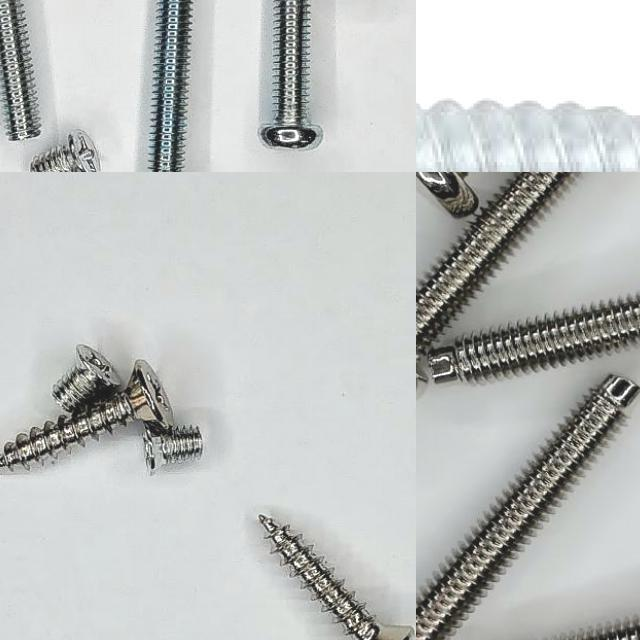Screw: (416, 375, 639, 640), (416, 172, 575, 380), (259, 515, 415, 640), (0, 360, 174, 469), (428, 294, 640, 383), (416, 98, 640, 172), (261, 0, 323, 150), (149, 0, 193, 172), (0, 0, 40, 141), (53, 345, 121, 415), (144, 424, 204, 475), (30, 131, 99, 172)
